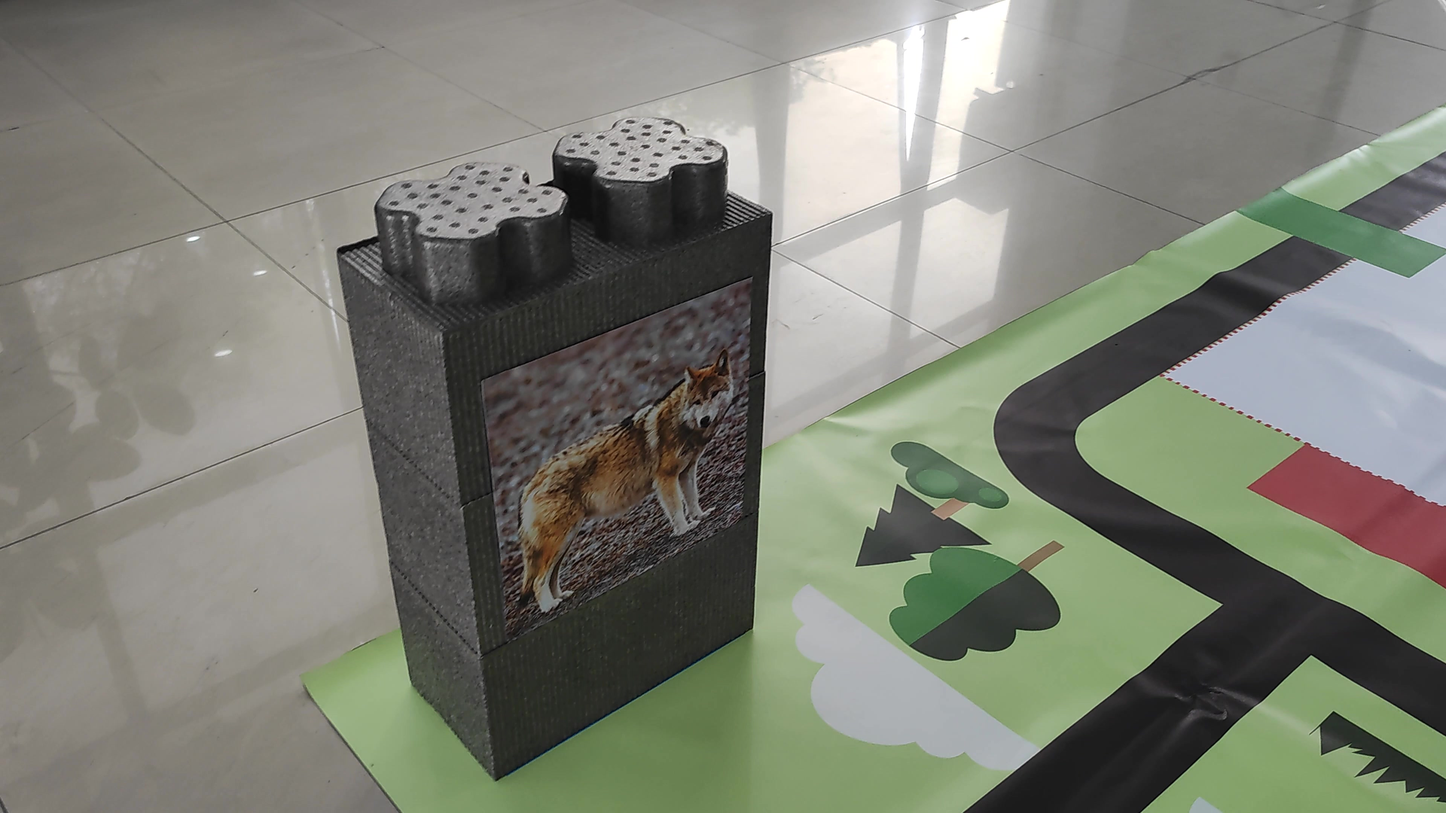wolf: (478, 329, 746, 621)
